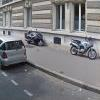Motorcycle: (52, 30, 100, 66)
